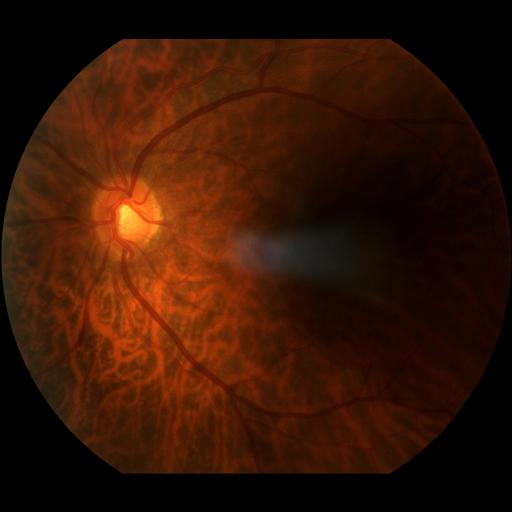Optic Cup: (114, 203, 144, 242)
Optic Disc: (91, 174, 162, 259)
